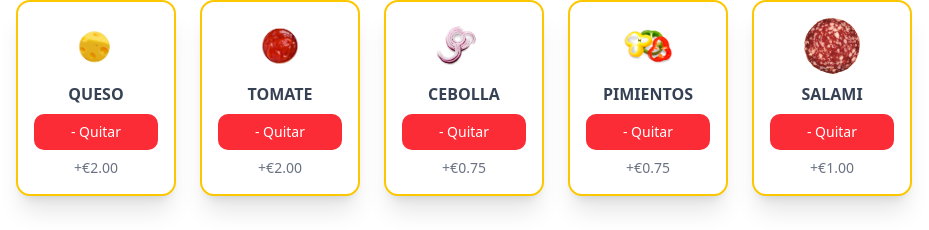
Buttons toppings test › cambia "- Quitar" a "+ Añadir" al hacer clic
Click the button "- Quitar" below "QUESO" at (96, 132), box [34,114,158,150]
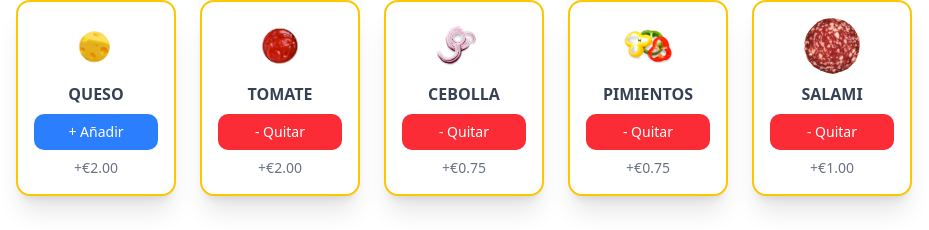
expect the button "+ Añadir" is shown: met, box [34,114,158,150]
